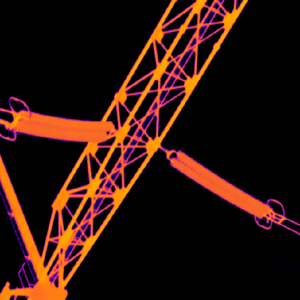insulator: (173, 146, 271, 215), (169, 157, 265, 219), (15, 116, 108, 142), (19, 110, 115, 133)
